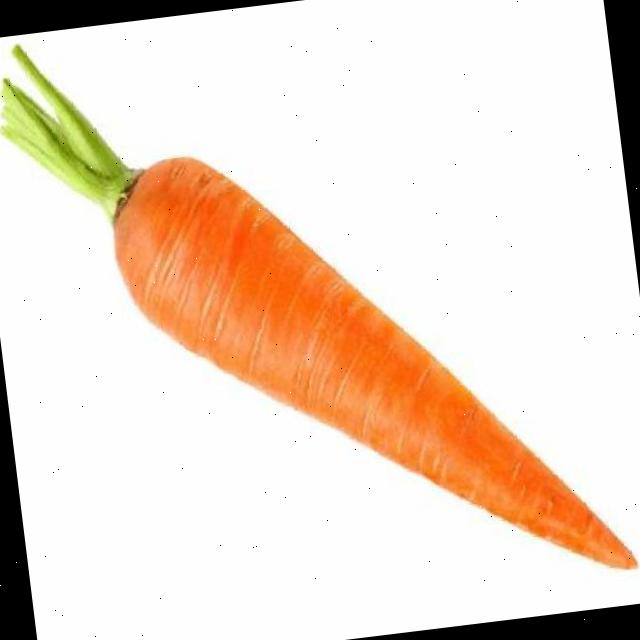carrot: (1, 46, 634, 568)
